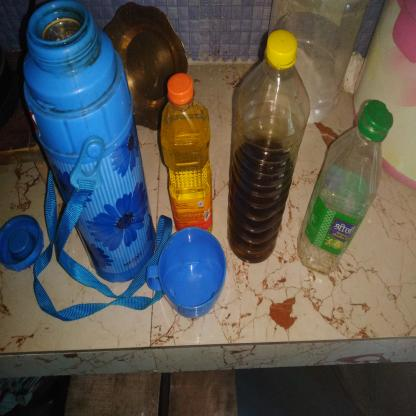bottle: (71, 29, 313, 227), (115, 299, 291, 416), (139, 208, 259, 288)
cup: (72, 196, 144, 302)
